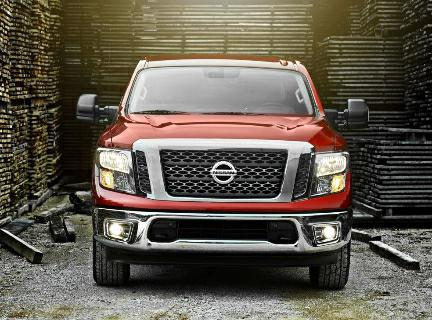日产-Titan: (71, 50, 380, 293)
